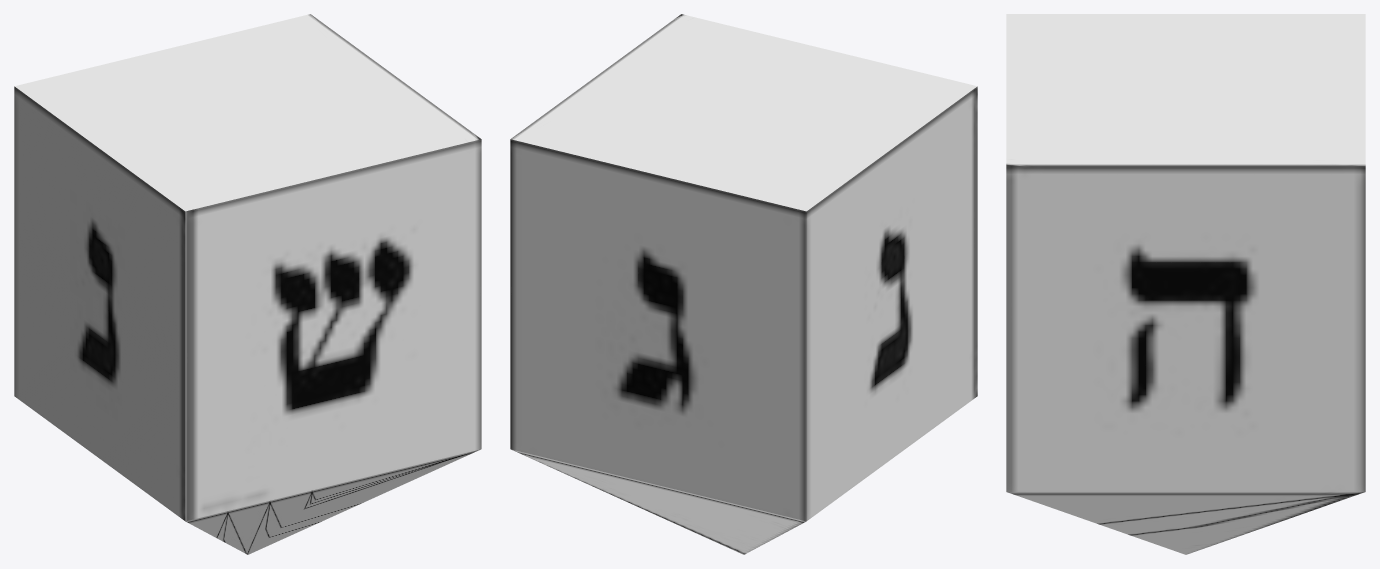
File: dreydl_collision.fbx
3 views of the same model, side by side, from view 1: azimuth 30°, elevation 25°; view 2: azimuth 150°, elevation 25°; view 3: azimuth 270°, elevation 25° (orthographic). The views are drawn at different scales.
Parts seen in each view (by area): view 1: Cube.001; view 2: Cube.001; view 3: Cube.001.
Part boxes in pixels (x1,y1,x2,y2): Cube.001: [14, 14, 481, 554]; Cube.001: [510, 14, 977, 554]; Cube.001: [1006, 14, 1365, 554].
Bounding box in the file's own units: 200 × 285 × 200.
